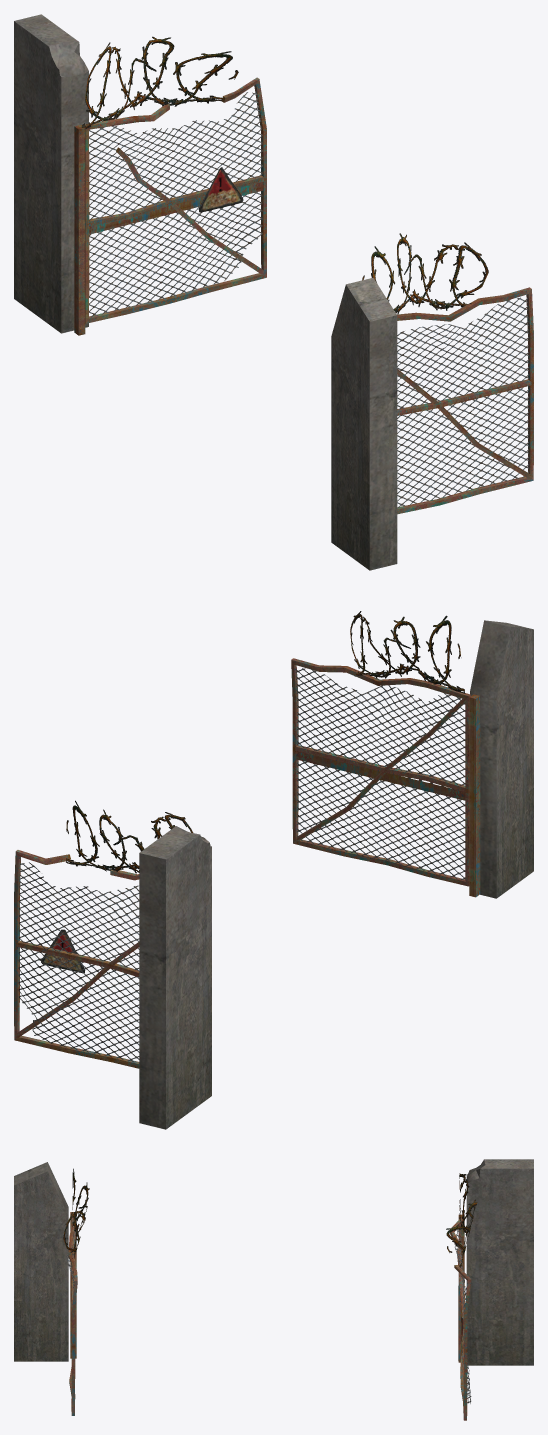
File: Prop_Jz010.glb
3 views of the same model, one above another, from view 1: azimuth 30°, elevation 25°; view 2: azimuth 150°, elevation 25°; view 3: azimuth 270°, elevation 25° (orthographic). The views are drawn at different scales.
Parts seen in each view (by area): view 1: xiutz_jz010_0; view 2: xiutz_jz010_0; view 3: xiutz_jz010_0.
Boxes of the visible parts, x1,y1,x2,y2 form: xiutz_jz010_0: [14, 14, 533, 570]; xiutz_jz010_0: [14, 611, 533, 1129]; xiutz_jz010_0: [14, 1159, 533, 1420].
Bounding box in the file's own units: 5.84 × 7.62 × 17.28.
Materials: 2 (2 with a texture image).
